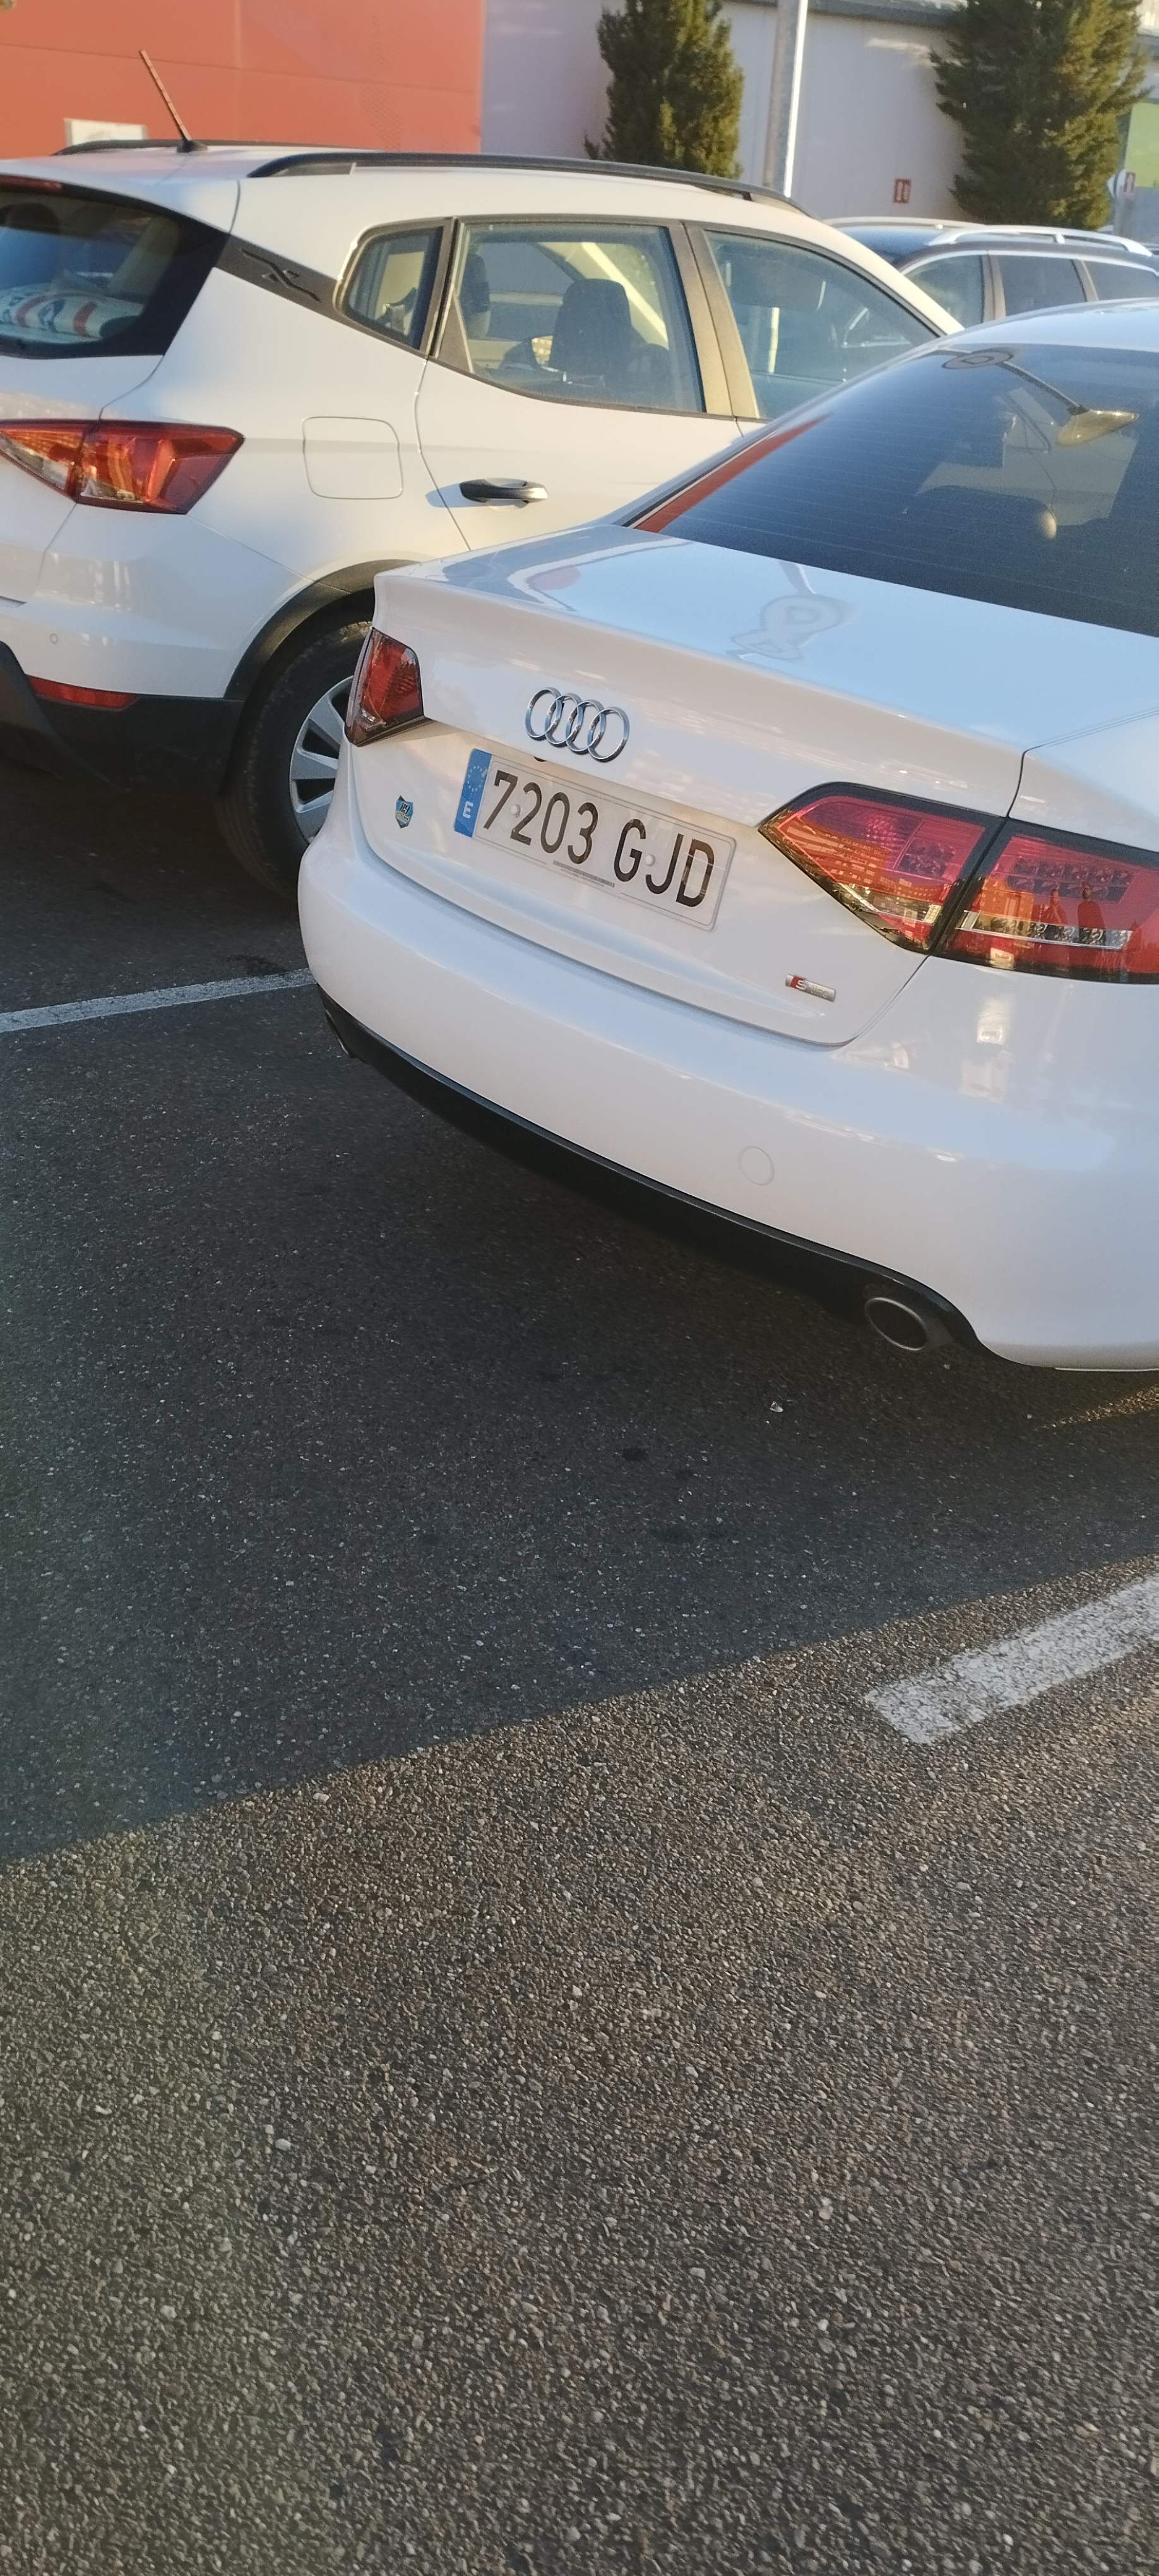Car: (297, 301, 1158, 1391), (0, 125, 934, 517)
Plate: (464, 741, 762, 837)
